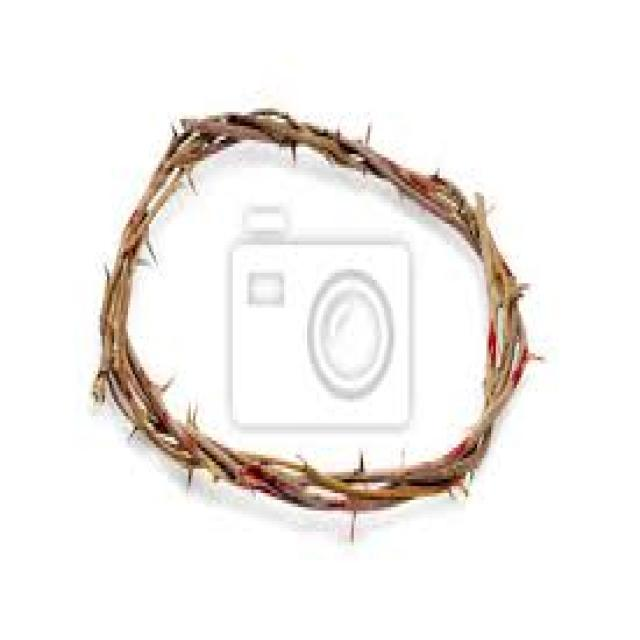crown: (77, 64, 584, 616)
